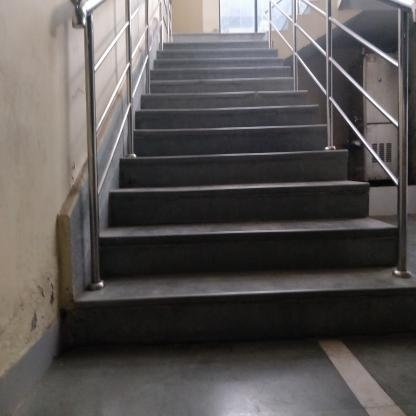stairs: (142, 159, 369, 358)
